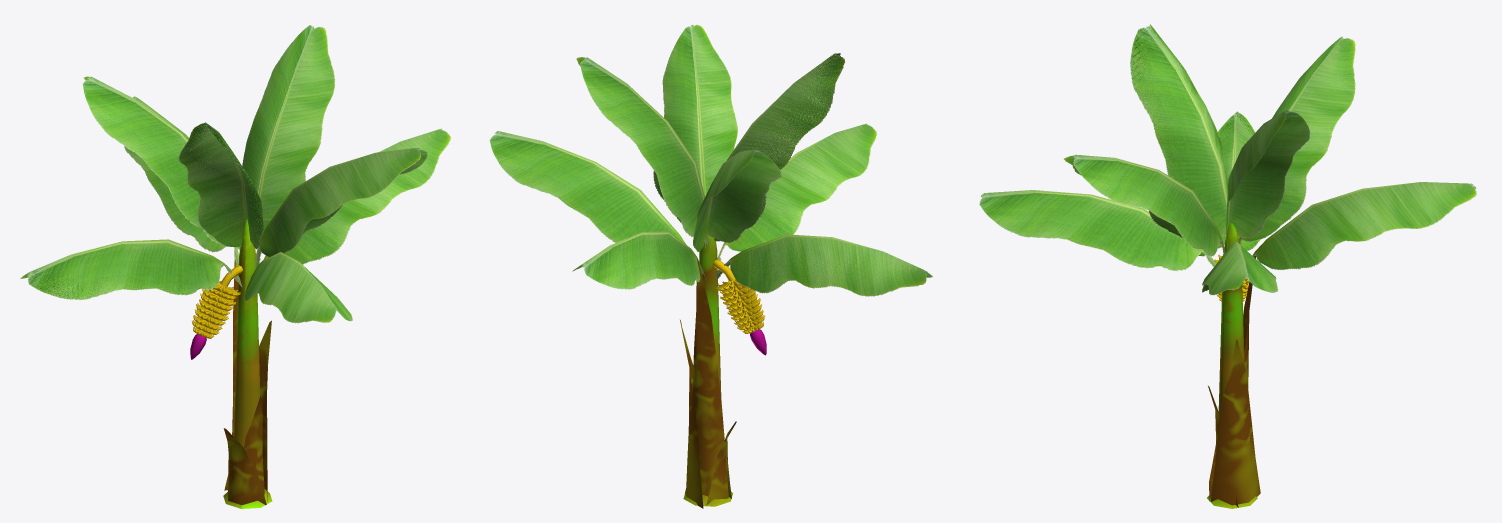
File: G_Banana_Tree.fbx
3 renders of one model, left to right at view 1: azimuth 30°, elevation 25°; view 2: azimuth 150°, elevation 25°; view 3: azimuth 270°, elevation 25°, orthographic.
Parts seen in each view (by area): view 1: G_Leaf.007, G_Trunk, G_Leaf.001, G_Leaf.006, G_Leaf.005, G_Leaf, G_Leaf.003, G_Leaf.002, G_Fruits, G_Leaf.004; view 2: G_Leaf.003, G_Leaf.001, G_Trunk, G_Leaf.006, G_Leaf.007, G_Leaf.002, G_Leaf.005, G_Leaf, G_Leaf.004, G_Fruits; view 3: G_Leaf.002, G_Leaf.005, G_Leaf.004, G_Trunk, G_Leaf, G_Leaf.006, G_Leaf.007, G_Leaf.003, G_Leaf.001.
Part boxes in pixels (x1=…): G_Leaf.007: x1=242, y1=25, x2=335, y2=239; G_Trunk: x1=223, y1=219, x2=272, y2=508; G_Leaf.001: x1=20, y1=239, x2=242, y2=300; G_Leaf.006: x1=254, y1=147, x2=427, y2=270; G_Leaf.005: x1=178, y1=122, x2=263, y2=249; G_Leaf: x1=82, y1=76, x2=240, y2=250; G_Leaf.003: x1=263, y1=128, x2=450, y2=264; G_Leaf.002: x1=244, y1=252, x2=352, y2=323; G_Fruits: x1=190, y1=265, x2=242, y2=359; G_Leaf.004: x1=124, y1=96, x2=239, y2=265; G_Leaf.003: x1=489, y1=131, x2=686, y2=244; G_Leaf.001: x1=715, y1=234, x2=932, y2=296; G_Trunk: x1=680, y1=236, x2=736, y2=508; G_Leaf.006: x1=662, y1=24, x2=737, y2=196; G_Leaf.007: x1=576, y1=57, x2=704, y2=236; G_Leaf.002: x1=717, y1=123, x2=877, y2=260; G_Leaf.005: x1=714, y1=53, x2=844, y2=241; G_Leaf: x1=693, y1=149, x2=781, y2=251; G_Leaf.004: x1=572, y1=231, x2=705, y2=289; G_Fruits: x1=713, y1=259, x2=766, y2=355; G_Leaf.002: x1=979, y1=190, x2=1216, y2=271; G_Leaf.005: x1=1130, y1=24, x2=1227, y2=235; G_Leaf.004: x1=1252, y1=182, x2=1476, y2=269; G_Trunk: x1=1207, y1=223, x2=1260, y2=508; G_Leaf: x1=1239, y1=36, x2=1355, y2=244; G_Leaf.006: x1=1064, y1=154, x2=1225, y2=256; G_Leaf.007: x1=1226, y1=110, x2=1309, y2=249; G_Leaf.003: x1=1202, y1=240, x2=1278, y2=295; G_Leaf.001: x1=1217, y1=111, x2=1261, y2=250.
Bounding box in the file's own units: 348 × 327 × 348.
4 materials, 2 textured.
